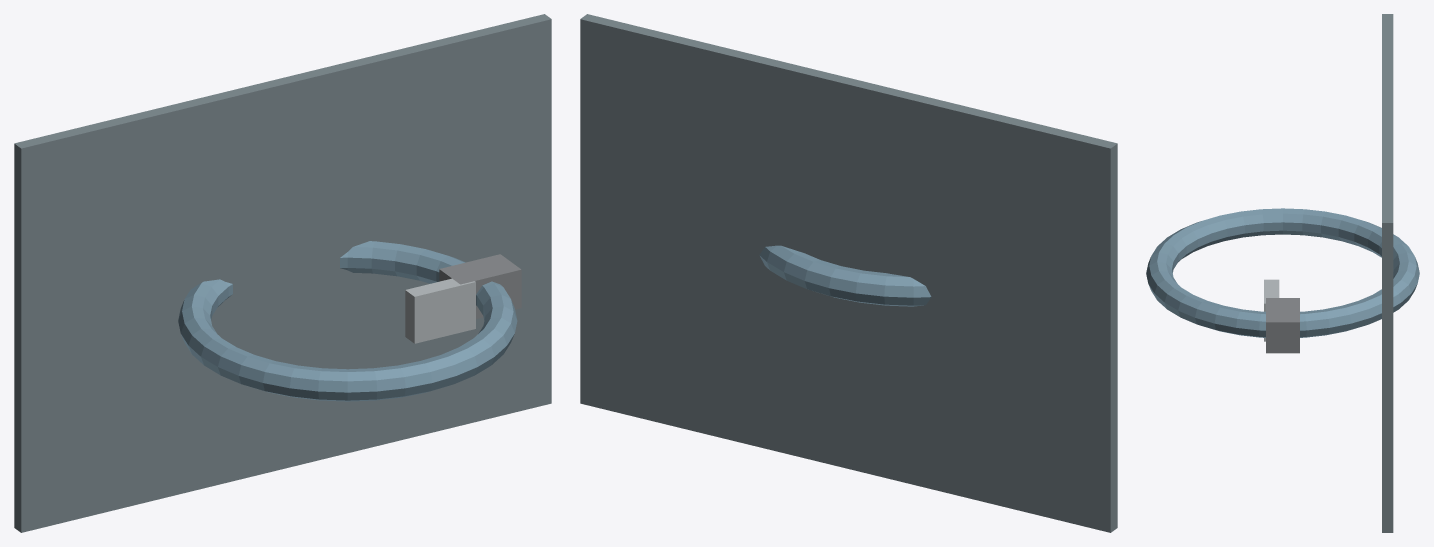
File: tourniquet-medium.glb
The picture shows the model from 3 angles, left to right: view 1: azimuth 30°, elevation 25°; view 2: azimuth 150°, elevation 25°; view 3: azimuth 270°, elevation 25°; orthographic projection. The views are drawn at different scales.
Visible parts, largest first — view 1: presentation_base_detail, tourniquet_band, buckle_detail, tourniquet_buckle; view 2: presentation_base_detail, tourniquet_band; view 3: tourniquet_band, presentation_base_detail, tourniquet_buckle, buckle_detail.
Part boxes in pixels (bbox=[...]): presentation_base_detail: bbox=[14, 14, 551, 532]; tourniquet_band: bbox=[178, 241, 517, 401]; buckle_detail: bbox=[405, 278, 475, 343]; tourniquet_buckle: bbox=[439, 254, 521, 318]; presentation_base_detail: bbox=[580, 14, 1117, 532]; tourniquet_band: bbox=[759, 245, 931, 306]; tourniquet_band: bbox=[1146, 208, 1419, 337]; presentation_base_detail: bbox=[1382, 14, 1393, 532]; tourniquet_buckle: bbox=[1266, 298, 1299, 353]; buckle_detail: bbox=[1264, 279, 1279, 341].
Size of the model in its own units: 2.6 by 1.8 by 1.44.
